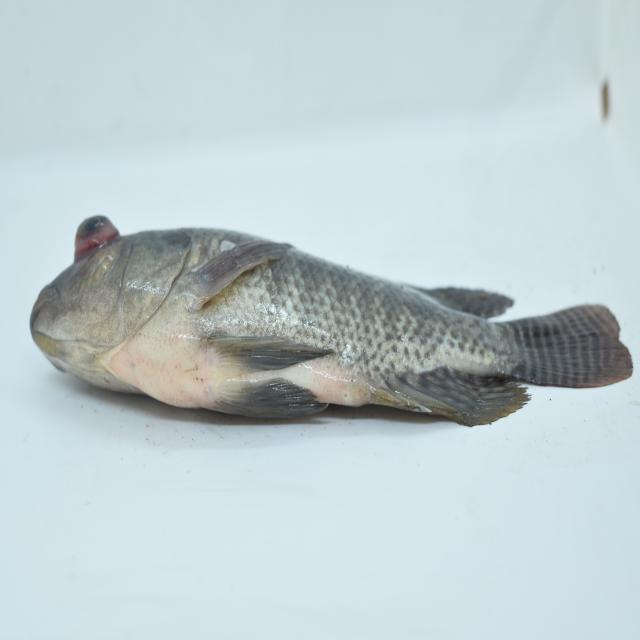streptococcus Disease: (28, 183, 636, 458)
